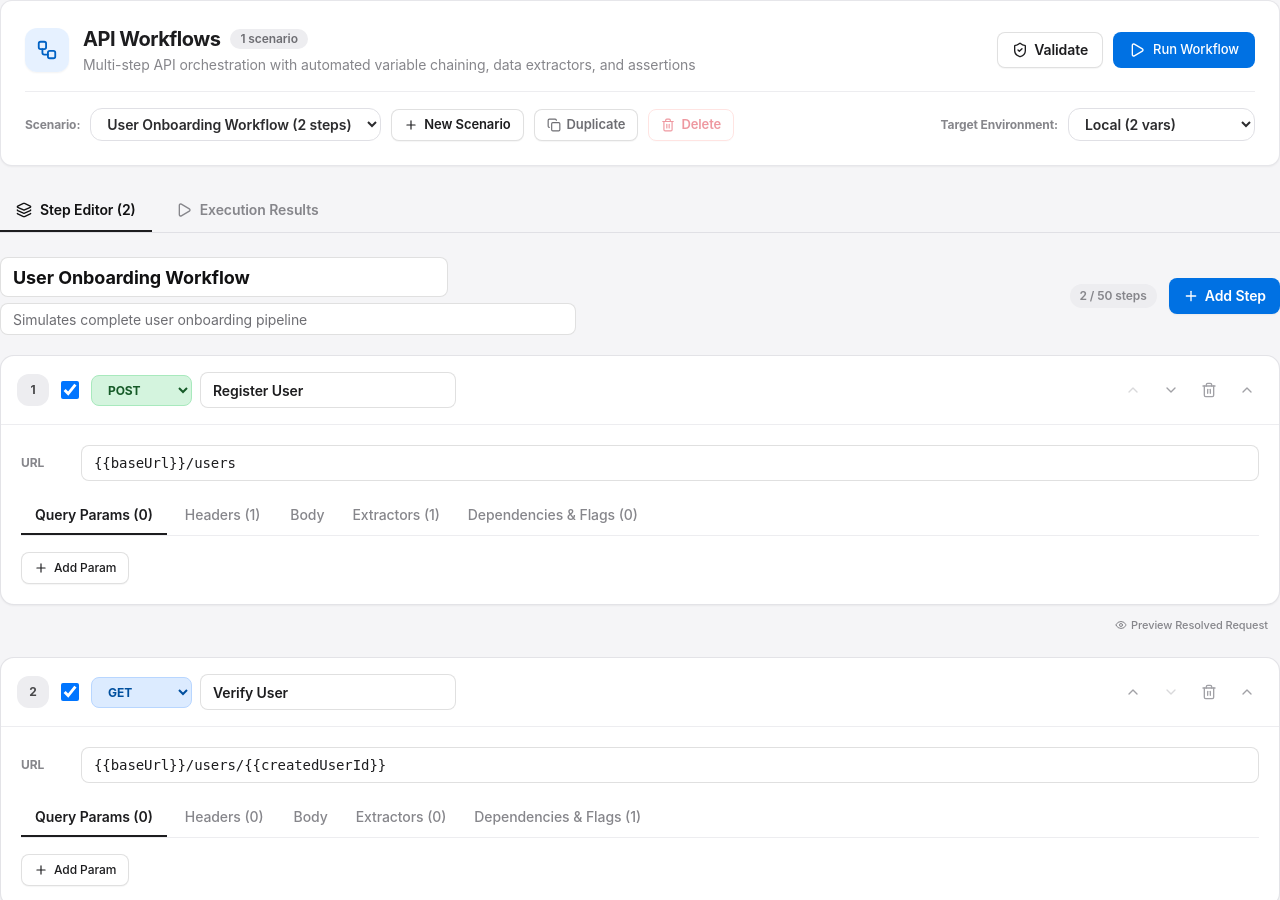
Scenario: WorkflowsPage Component Tests › displays failed step details when scenario execution has step failures
Click the button "Run Workflow".
click(1184, 50)  # box [1113,32,1255,68]
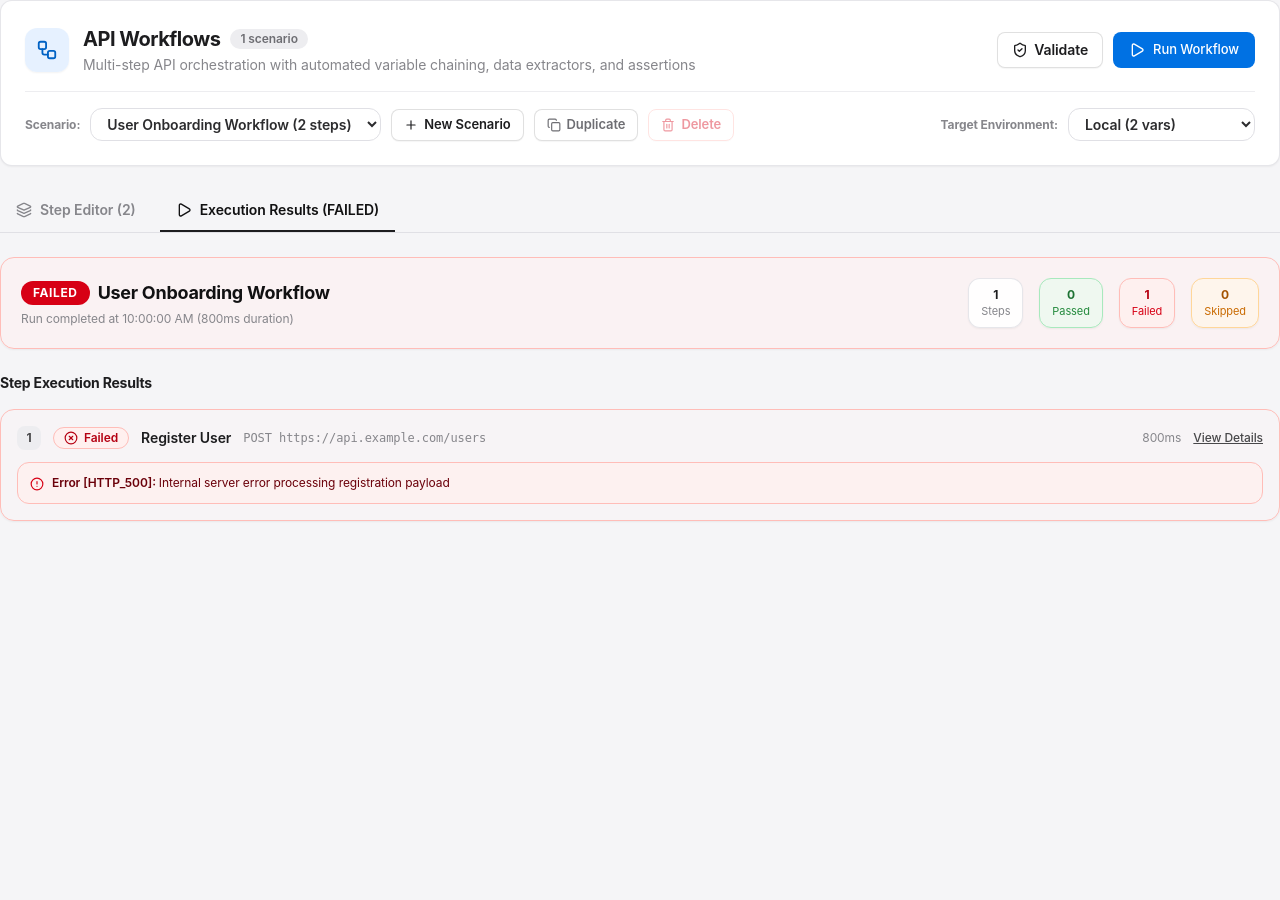
Check: the text "FAILED" is shown, box [21,281,90,305]
